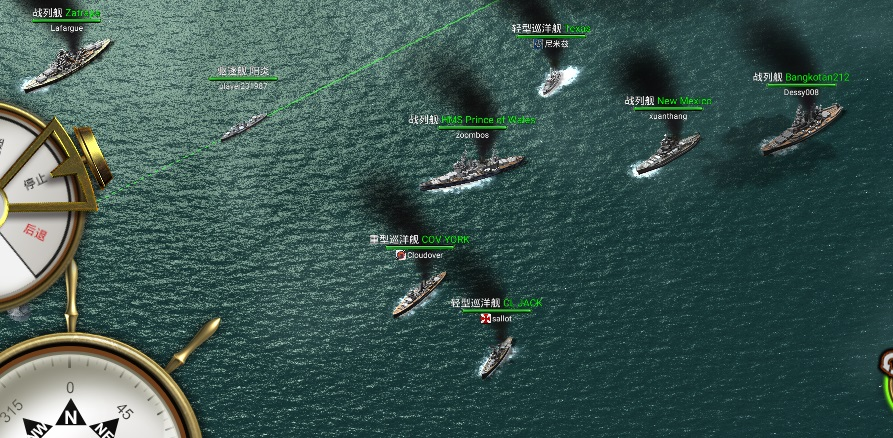ship: (19, 35, 116, 97), (757, 93, 841, 164), (414, 144, 527, 196), (628, 125, 704, 174), (390, 268, 451, 319), (469, 330, 520, 378), (217, 109, 270, 147), (537, 62, 566, 100)
